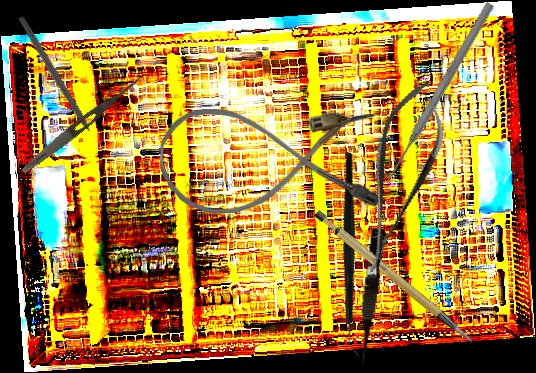Cannula: (158, 109, 380, 214)
Chopper: (281, 151, 426, 359)
Dressing Forceps: (18, 70, 147, 177)
Hook Surgical: (15, 15, 103, 150)
Micro Scissor: (339, 72, 460, 282), (351, 228, 387, 368)
Pusher: (381, 0, 496, 187)
Scalpel Handle: (311, 191, 475, 366)
